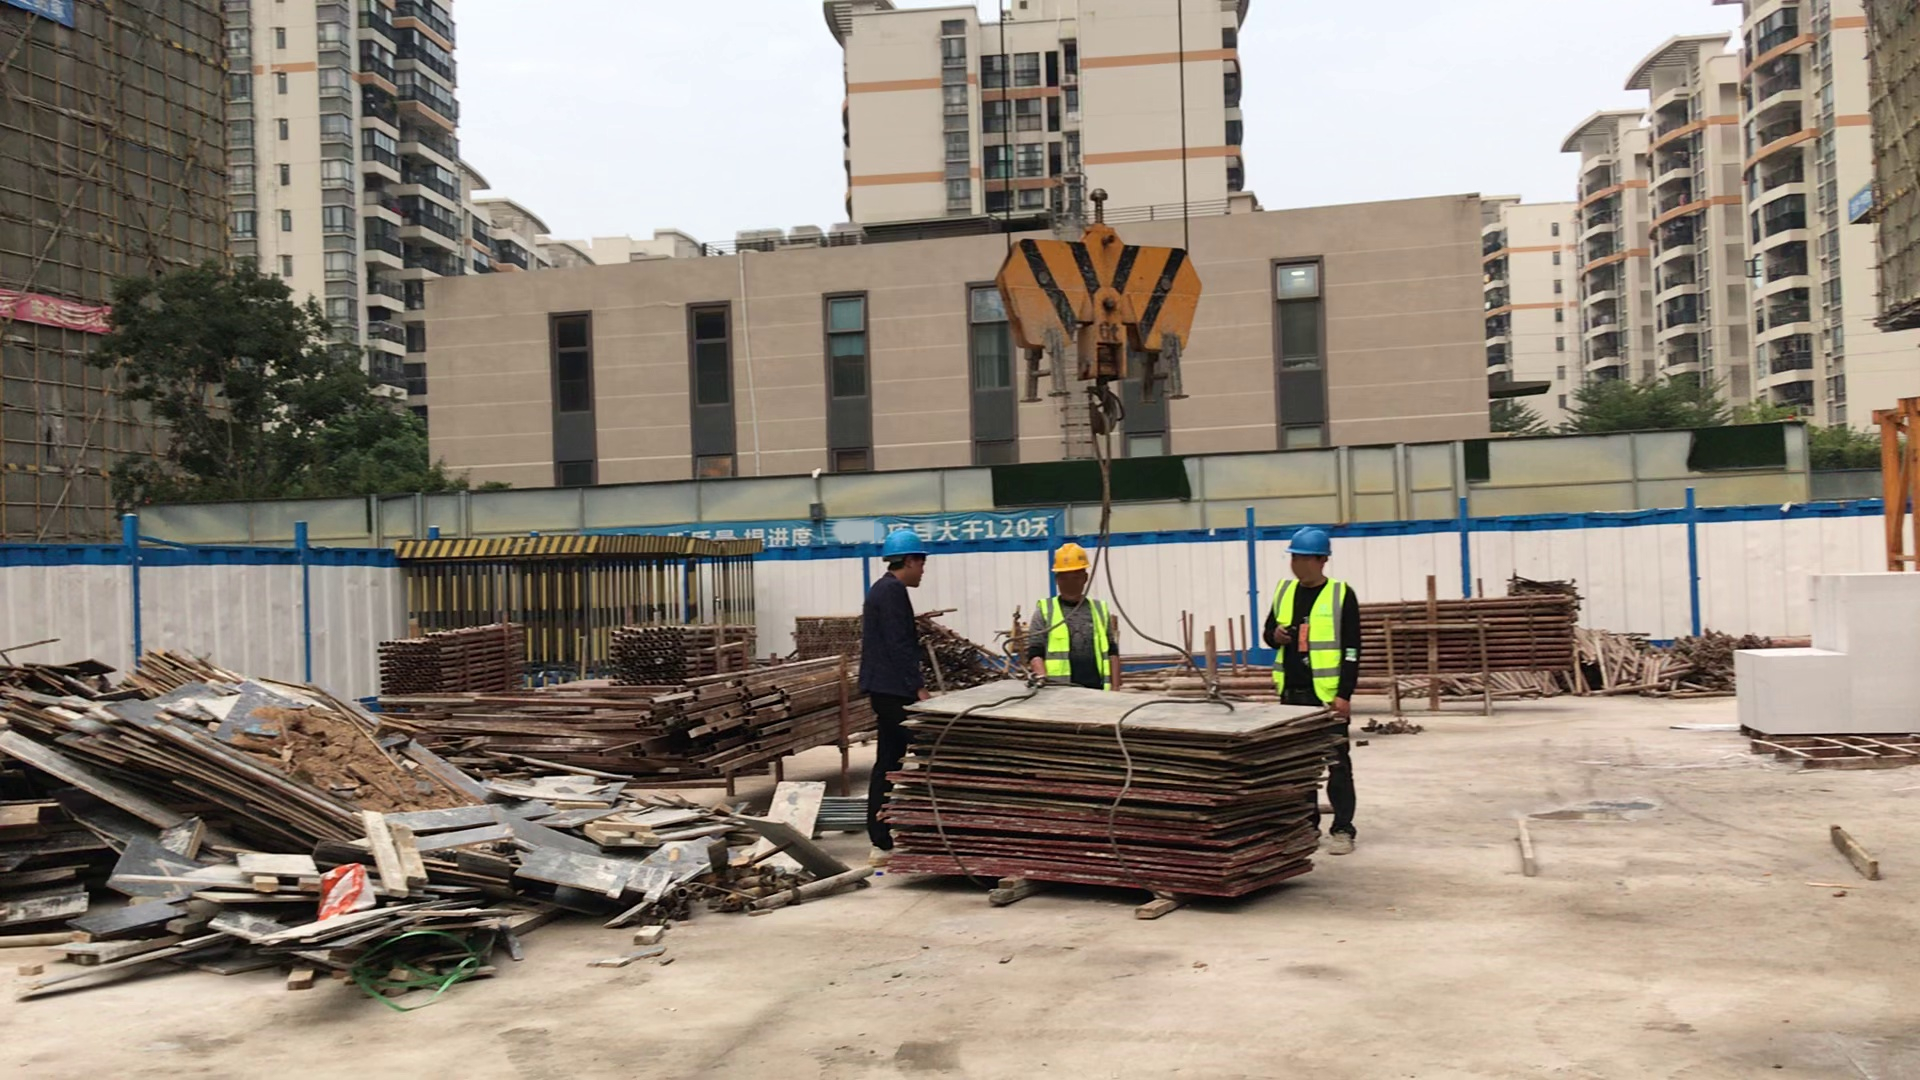board: (885, 673, 1348, 928)
helmet: (1284, 527, 1333, 556), (882, 532, 927, 559), (1049, 544, 1092, 571)
hook: (981, 216, 1220, 449)
person: (1256, 523, 1367, 858), (869, 532, 933, 867), (1022, 543, 1143, 689)
scaffold: (378, 619, 751, 692), (1365, 597, 1572, 676), (795, 604, 876, 660)
slogan: (694, 508, 1054, 543), (4, 291, 117, 335), (10, 1, 67, 17)
vest: (1274, 574, 1343, 702), (1036, 595, 1112, 683)
wood: (1733, 571, 1920, 734)
